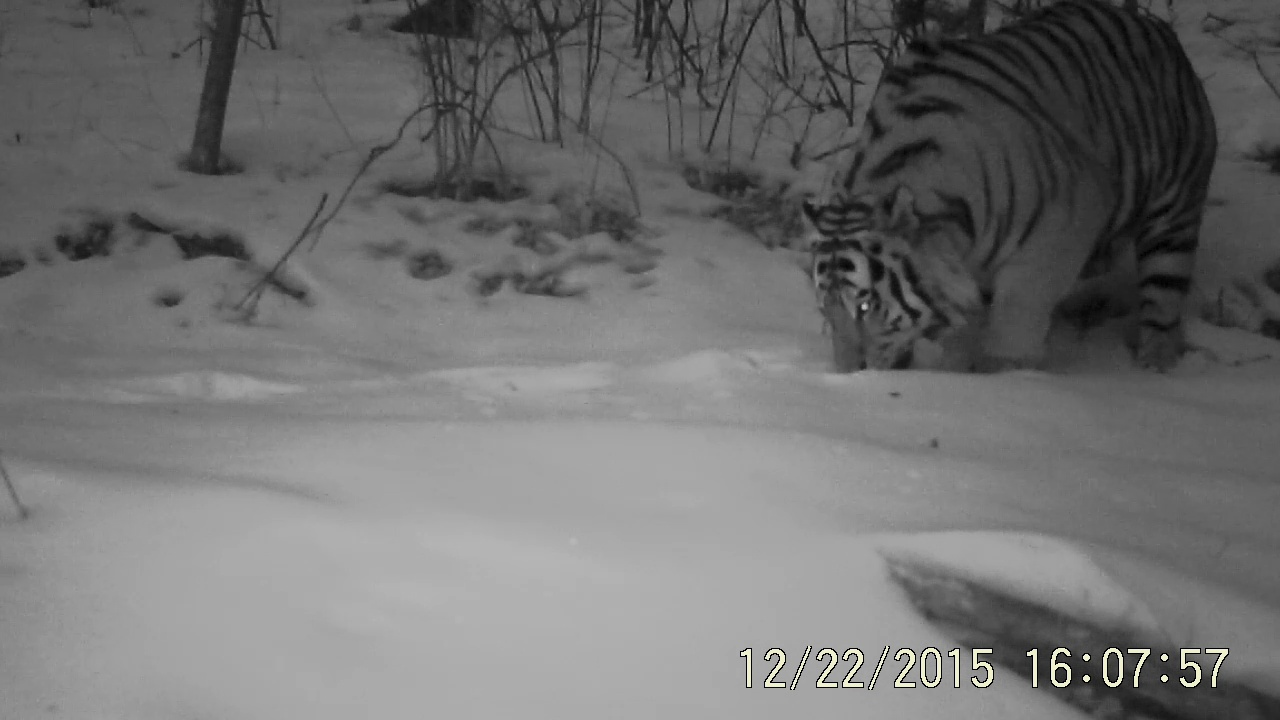Tiger: (706, 9, 1273, 432)
